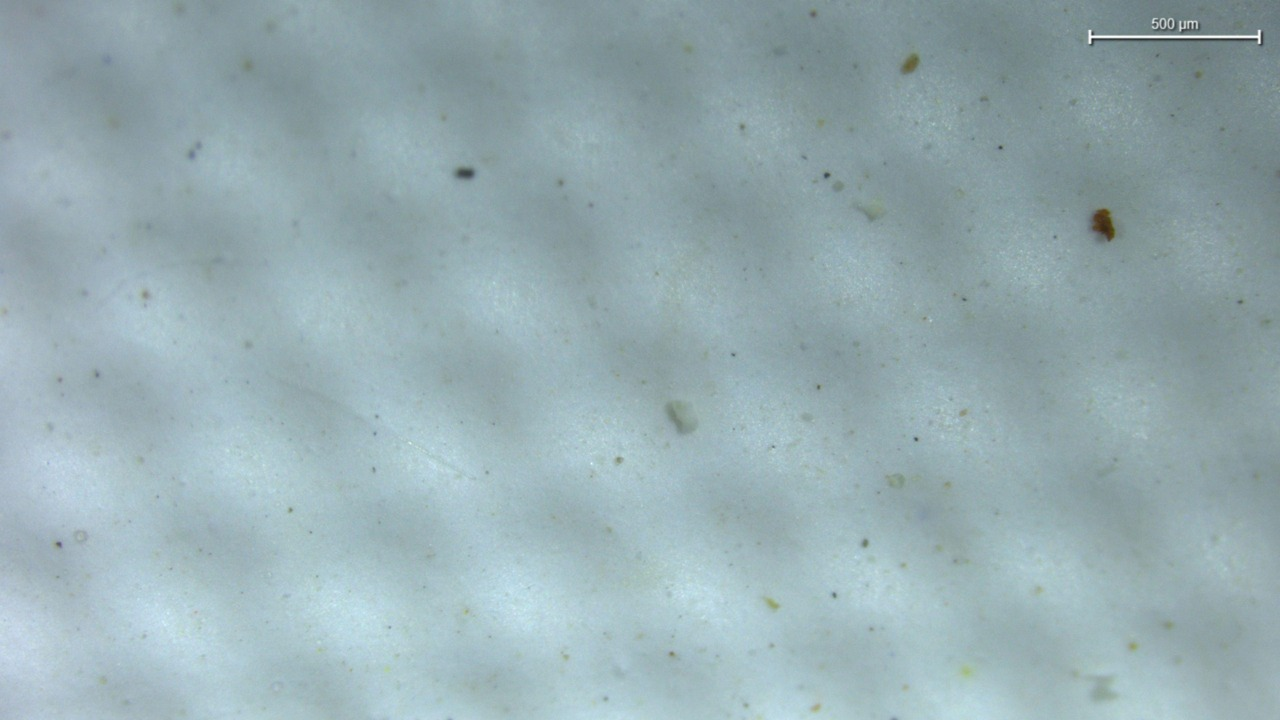microplastic_fragment: (665, 400, 698, 434), (1092, 208, 1116, 240)
